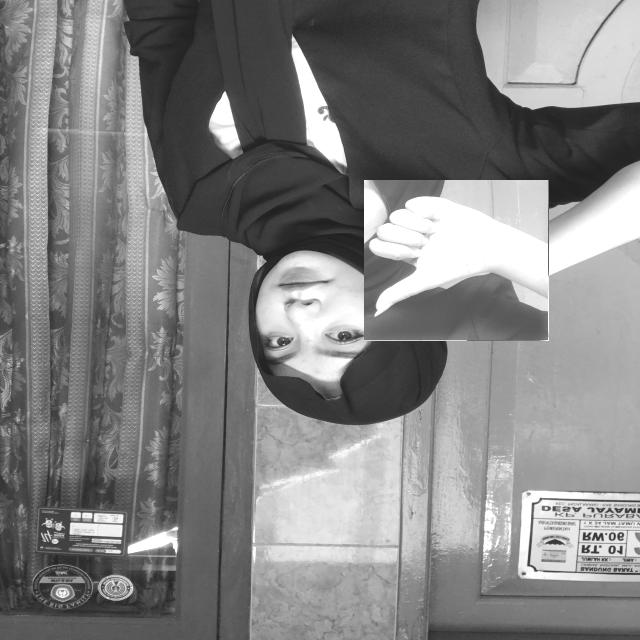sedih: (364, 180, 549, 341)
